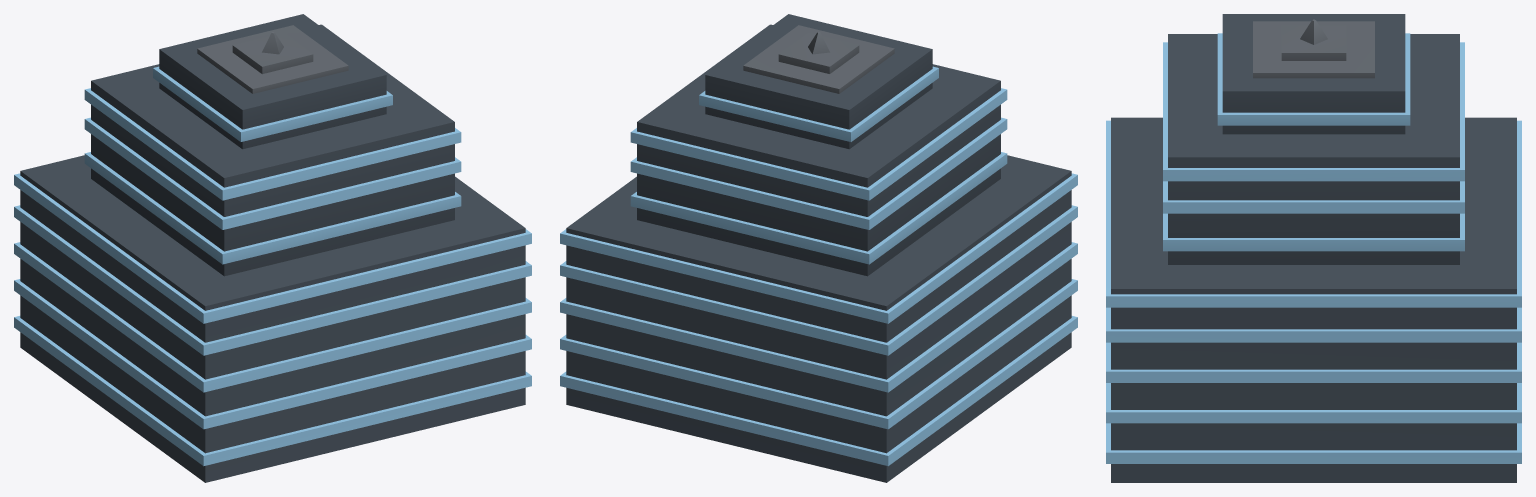
Rendered from deco.glb.
The picture shows the model from 3 angles, left to right: view 1: azimuth 30°, elevation 25°; view 2: azimuth 150°, elevation 25°; view 3: azimuth 270°, elevation 25°; orthographic projection. The views are drawn at different scales.
Visible parts, largest first — view 1: hard, windows, roof; view 2: hard, windows, roof; view 3: hard, windows, roof.
Boxes of the visible parts, x1,y1,x2,y2 form: hard: (20, 14, 525, 482); windows: (14, 66, 531, 466); roof: (197, 25, 348, 93); hard: (566, 14, 1071, 482); windows: (560, 66, 1077, 466); roof: (743, 25, 894, 93); hard: (1111, 14, 1516, 482); windows: (1106, 33, 1521, 463); roof: (1253, 19, 1374, 78).
Bounding box in the file's own units: 1 × 1 × 1.
